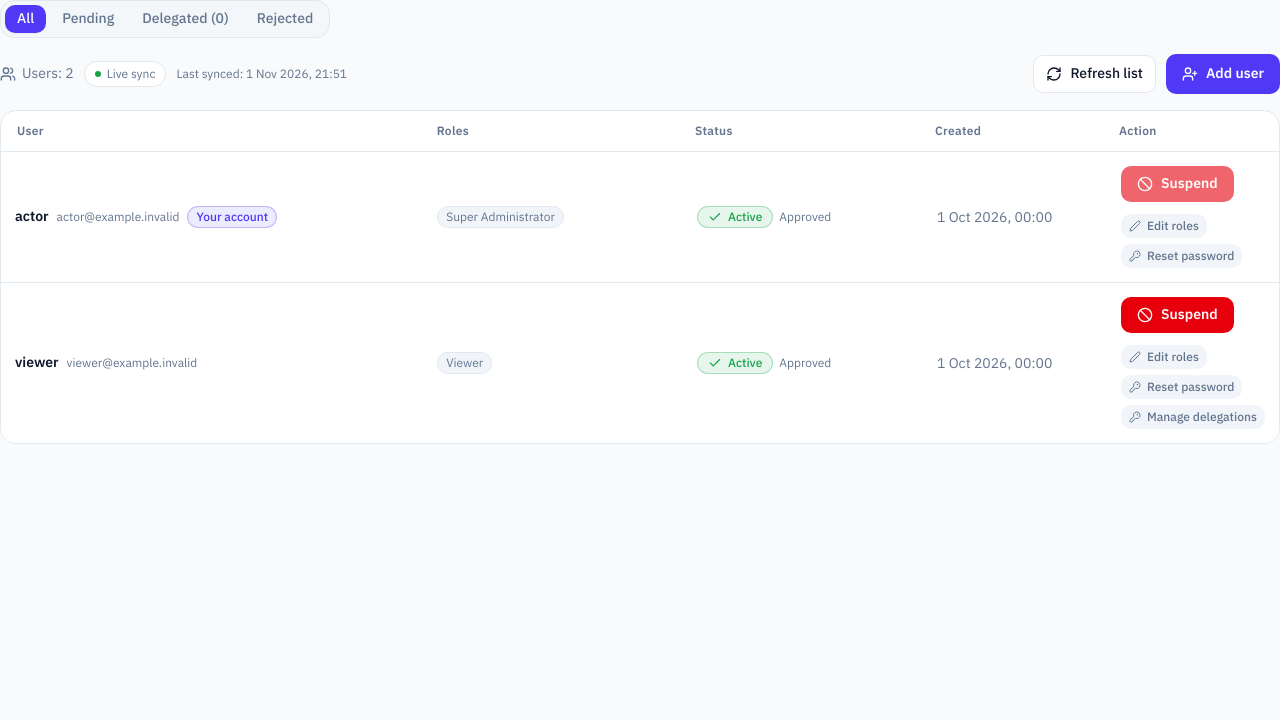
Scenario: UsersManagement — Edit Roles › shows a failure message when changeUserRole rejects
Click the button with aria-label "Edit user roles" at (1164, 226), box [1121,214,1207,238]
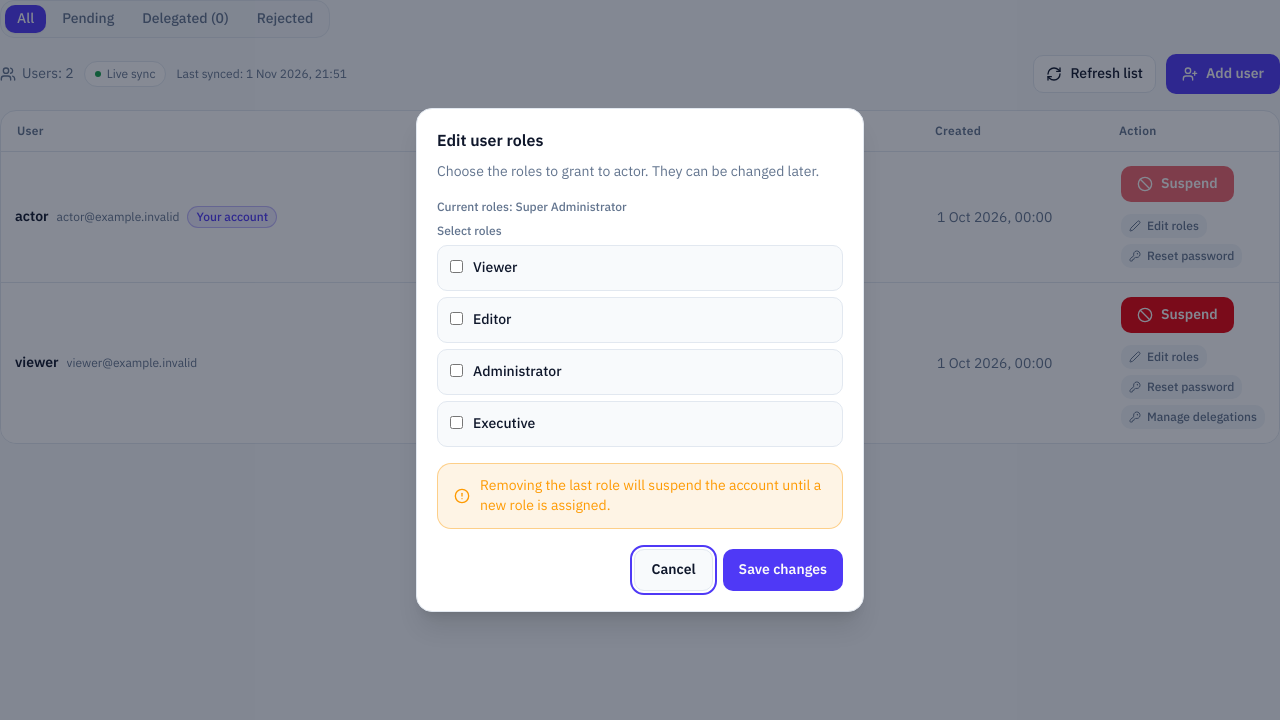
Result: the dialog is shown at [416,108,864,612]
Click the checkbox labelled "Editor" at (456, 319), box [450,312,463,325]
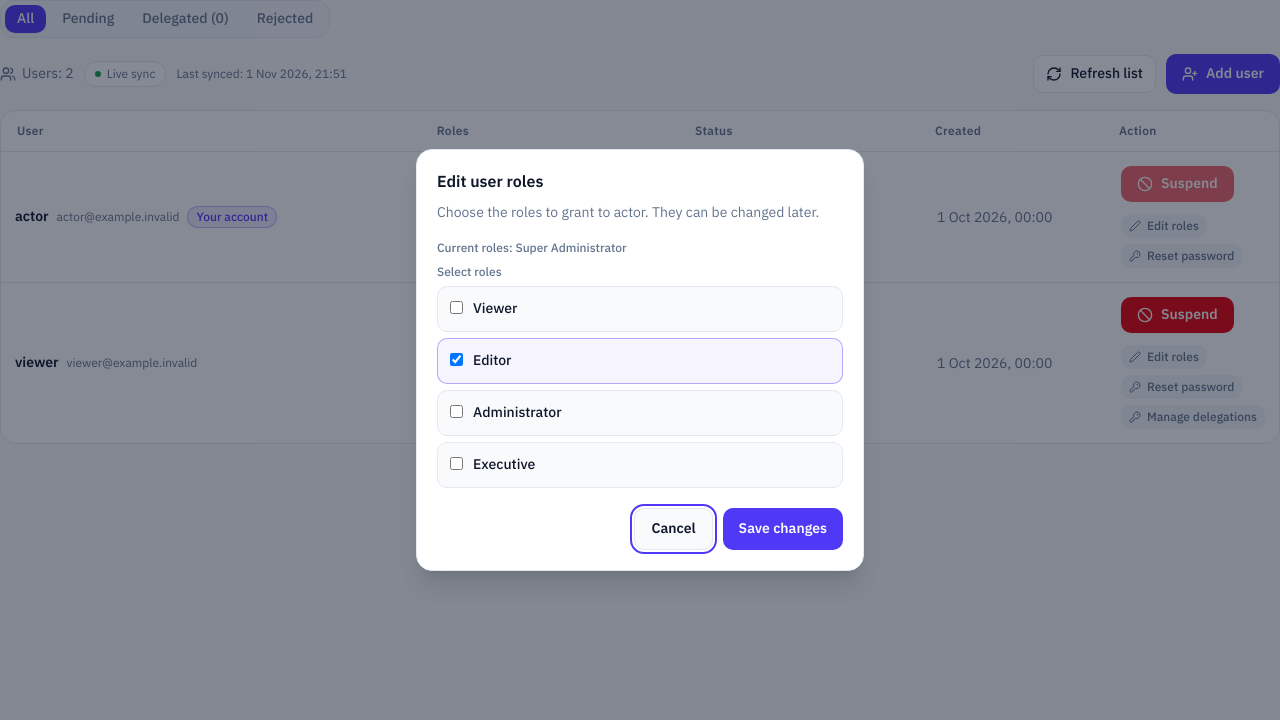
Click the button "Save changes" at (783, 529), box [723,508,843,550]
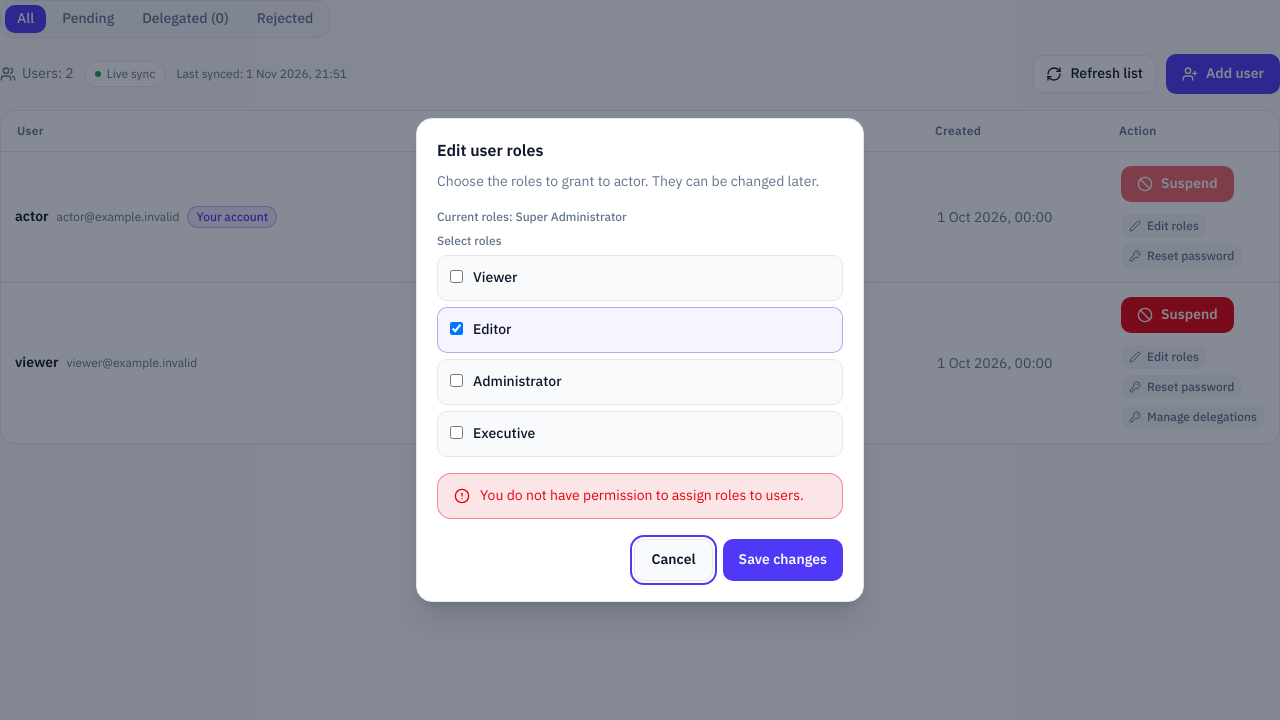
Result: the text "You do not have permission to assign roles to users." is shown at [480,486,804,506]
